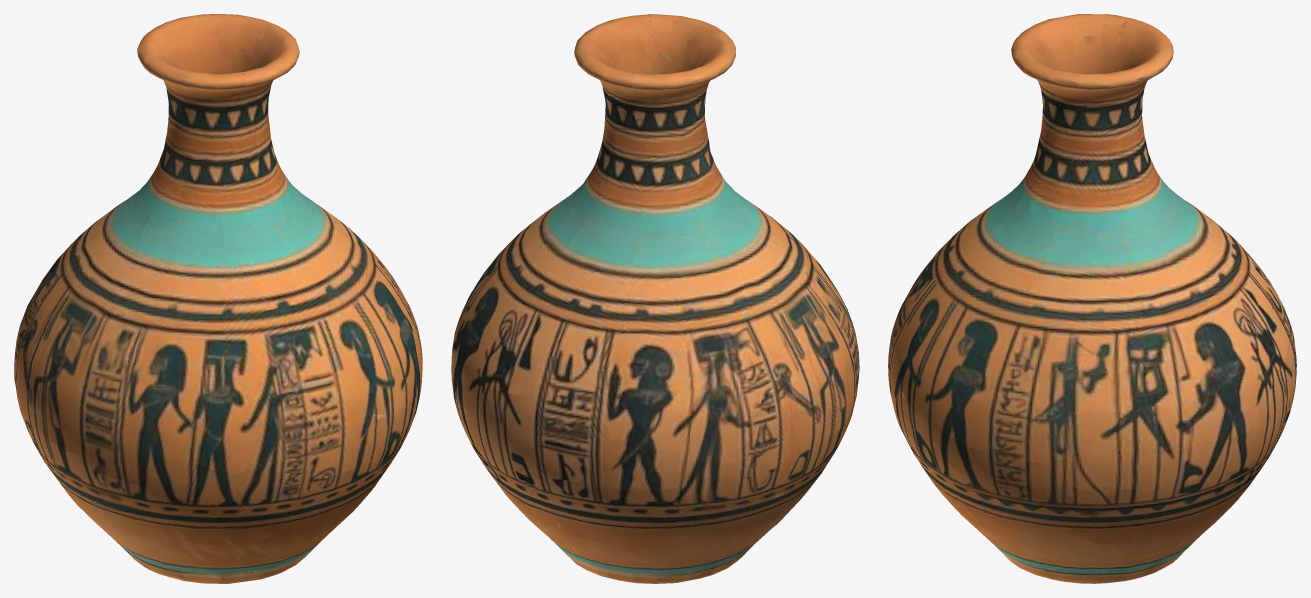
File: pot_dec.glb
3 renders of one model, left to right at view 1: azimuth 30°, elevation 25°; view 2: azimuth 150°, elevation 25°; view 3: azimuth 270°, elevation 25°, orthographic.
Parts seen in each view (by area): view 1: Mesh_0.009; view 2: Mesh_0.009; view 3: Mesh_0.009.
Boxes of the visible parts, x1=… form: Mesh_0.009: x1=14, y1=14, x2=422, y2=583; Mesh_0.009: x1=451, y1=14, x2=859, y2=583; Mesh_0.009: x1=888, y1=14, x2=1296, y2=583.
Bounding box in the file's own units: 1.41 × 1.91 × 1.41.
1 material, 1 textured.
